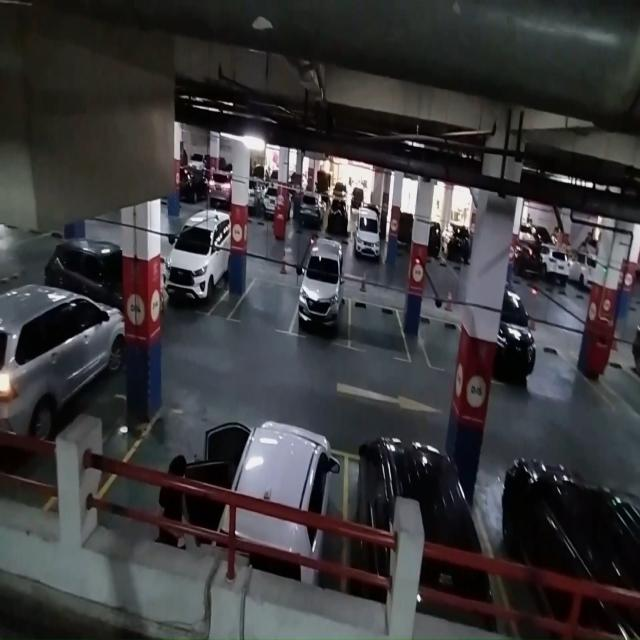empty: (104, 403, 229, 553), (227, 276, 298, 335), (348, 296, 410, 362), (418, 314, 461, 372)
occupied: (343, 438, 491, 615), (218, 420, 347, 592), (163, 216, 231, 318), (291, 259, 351, 349)
